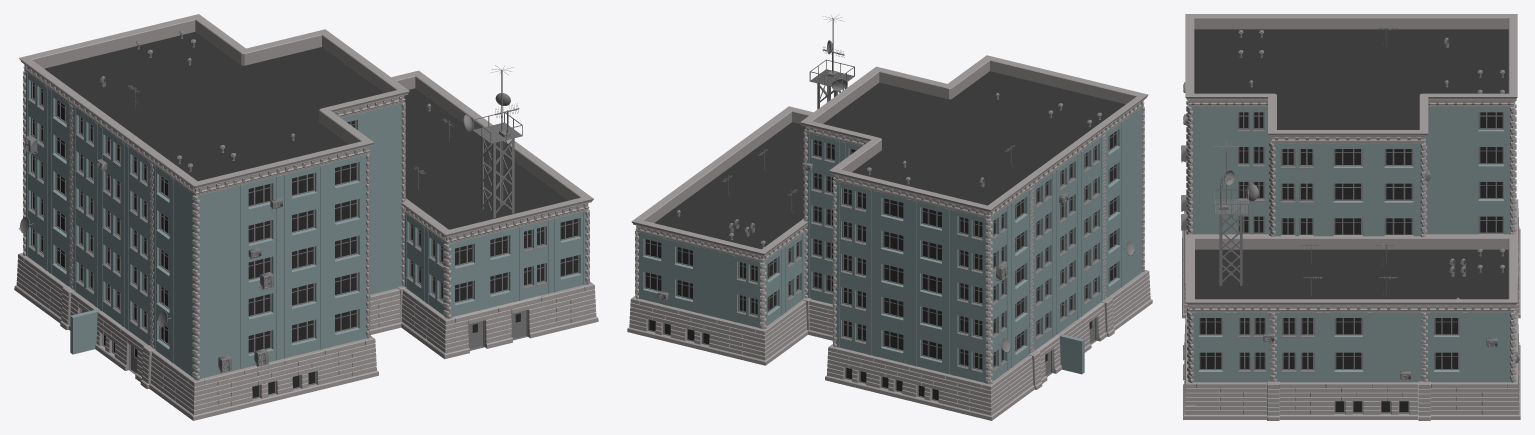
The model's file is Building 9.fbx.
3 views of the same model, side by side, from view 1: azimuth 30°, elevation 25°; view 2: azimuth 150°, elevation 25°; view 3: azimuth 270°, elevation 25° (orthographic). The views are drawn at different scales.
Visible parts, largest first — view 1: air_vent_a.004; view 2: air_vent_a.004; view 3: air_vent_a.004.
Boxes of the visible parts, x1,y1,x2,y2 form: air_vent_a.004: (14, 14, 598, 420); air_vent_a.004: (627, 14, 1152, 420); air_vent_a.004: (1181, 14, 1520, 420).
Bounding box in the file's own units: 3679 × 2068 × 2658.
